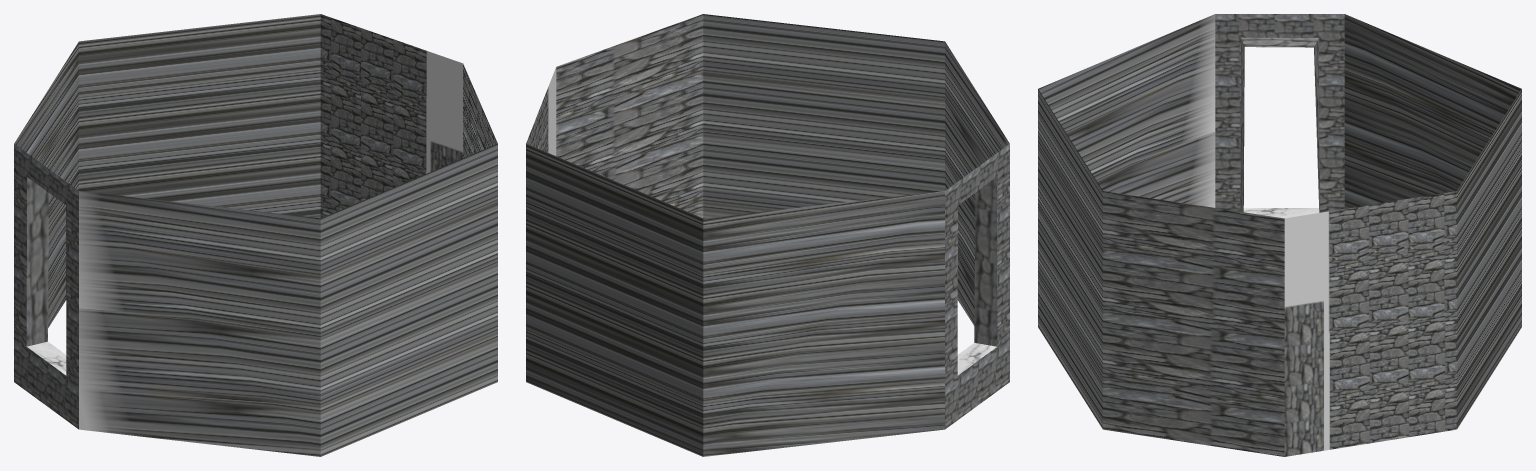
File: tower_outer_wall_lod0.fbx
The picture shows the model from 3 angles, left to right: view 1: azimuth 30°, elevation 25°; view 2: azimuth 150°, elevation 25°; view 3: azimuth 270°, elevation 25°; orthographic projection.
Parts seen in each view (by area): view 1: LOD1_outer_wall; view 2: LOD1_outer_wall; view 3: LOD1_outer_wall.
Boxes of the visible parts, <box> form: LOD1_outer_wall: <box>14,14,497,456</box>; LOD1_outer_wall: <box>526,14,1009,456</box>; LOD1_outer_wall: <box>1038,14,1521,456</box>.
Size of the model in its own units: 6182 by 3364 by 6182.
1 material, 1 textured.
